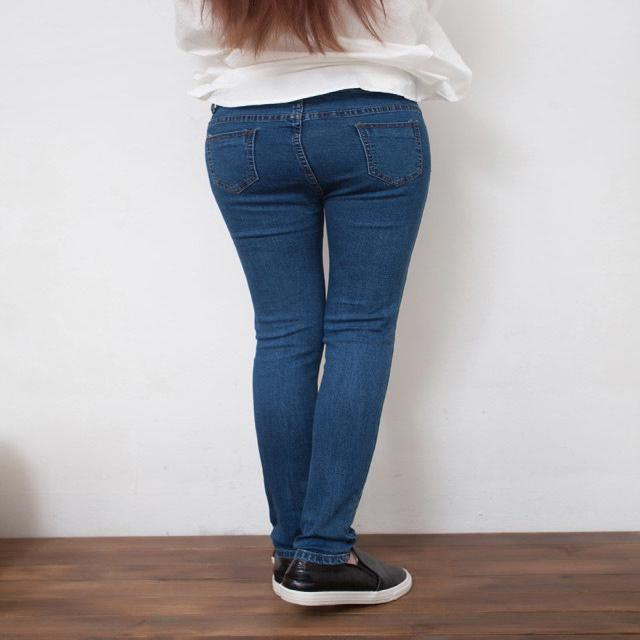long sleeve top: (173, 0, 452, 99)
trousers: (210, 77, 417, 564)
